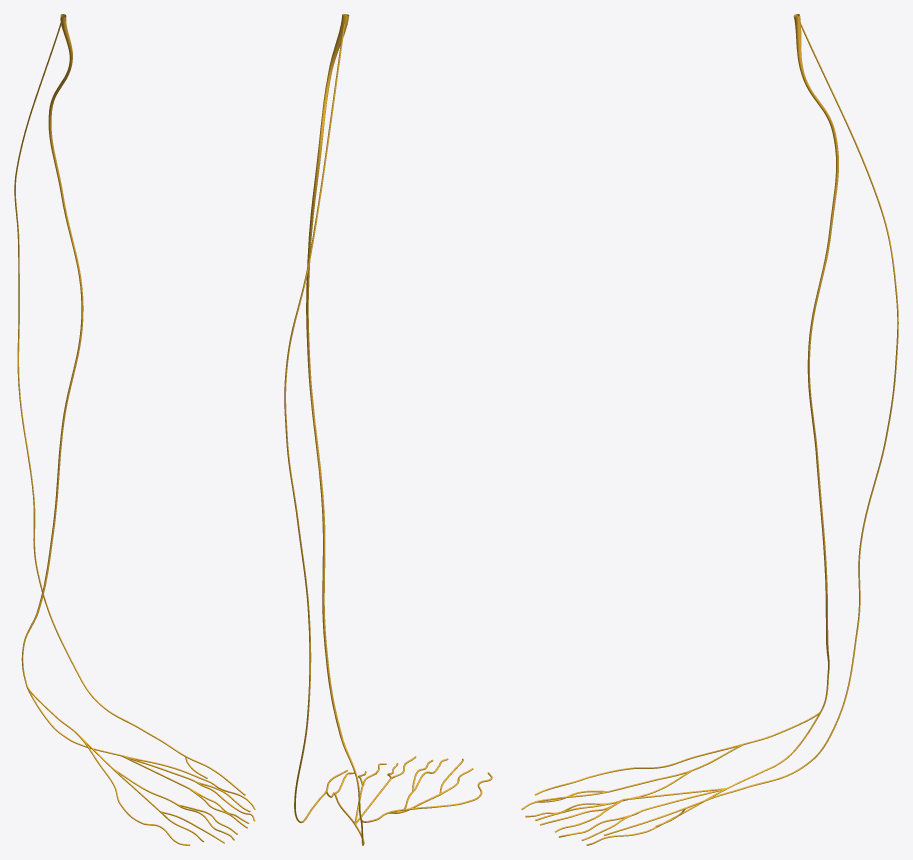
File: nervoso-tibial-nerve-l.glb
The picture shows the model from 3 angles, left to right: view 1: azimuth 30°, elevation 25°; view 2: azimuth 150°, elevation 25°; view 3: azimuth 270°, elevation 25°; orthographic projection. The views are drawn at different scales.
Visible parts, largest first — view 1: Tibial nerve.l, Sural nerve.l, Proper plantar digital branches of medial plantar nerve.l, Proper plantar digital branches of lateral plantar nerve.l, Common plantar digital branches of lateral plantar nerve.l; view 2: Tibial nerve.l, Sural nerve.l, Medial sural cutaneous nerve.l, Proper plantar digital branches of medial plantar nerve.l; view 3: Tibial nerve.l, Sural nerve.l, Proper plantar digital branches of medial plantar nerve.l, Proper plantar digital branches of lateral plantar nerve.l.
Part boxes in pixels (left/top/right/bottom): Tibial nerve.l: left=21, top=14, right=83, bottom=685; Sural nerve.l: left=14, top=170, right=245, bottom=795; Proper plantar digital branches of medial plantar nerve.l: left=120, top=804, right=237, bottom=845; Proper plantar digital branches of lateral plantar nerve.l: left=189, top=780, right=255, bottom=828; Common plantar digital branches of lateral plantar nerve.l: left=121, top=755, right=206, bottom=788; Tibial nerve.l: left=306, top=14, right=361, bottom=819; Sural nerve.l: left=284, top=262, right=347, bottom=822; Medial sural cutaneous nerve.l: left=308, top=15, right=346, bottom=262; Proper plantar digital branches of medial plantar nerve.l: left=412, top=758, right=492, bottom=803; Tibial nerve.l: left=793, top=14, right=838, bottom=711; Sural nerve.l: left=603, top=202, right=898, bottom=835; Proper plantar digital branches of medial plantar nerve.l: left=521, top=768, right=628, bottom=820; Proper plantar digital branches of lateral plantar nerve.l: left=540, top=799, right=655, bottom=845.
Bounding box in the file's own units: 0.0899 × 0.5336 × 0.233.
